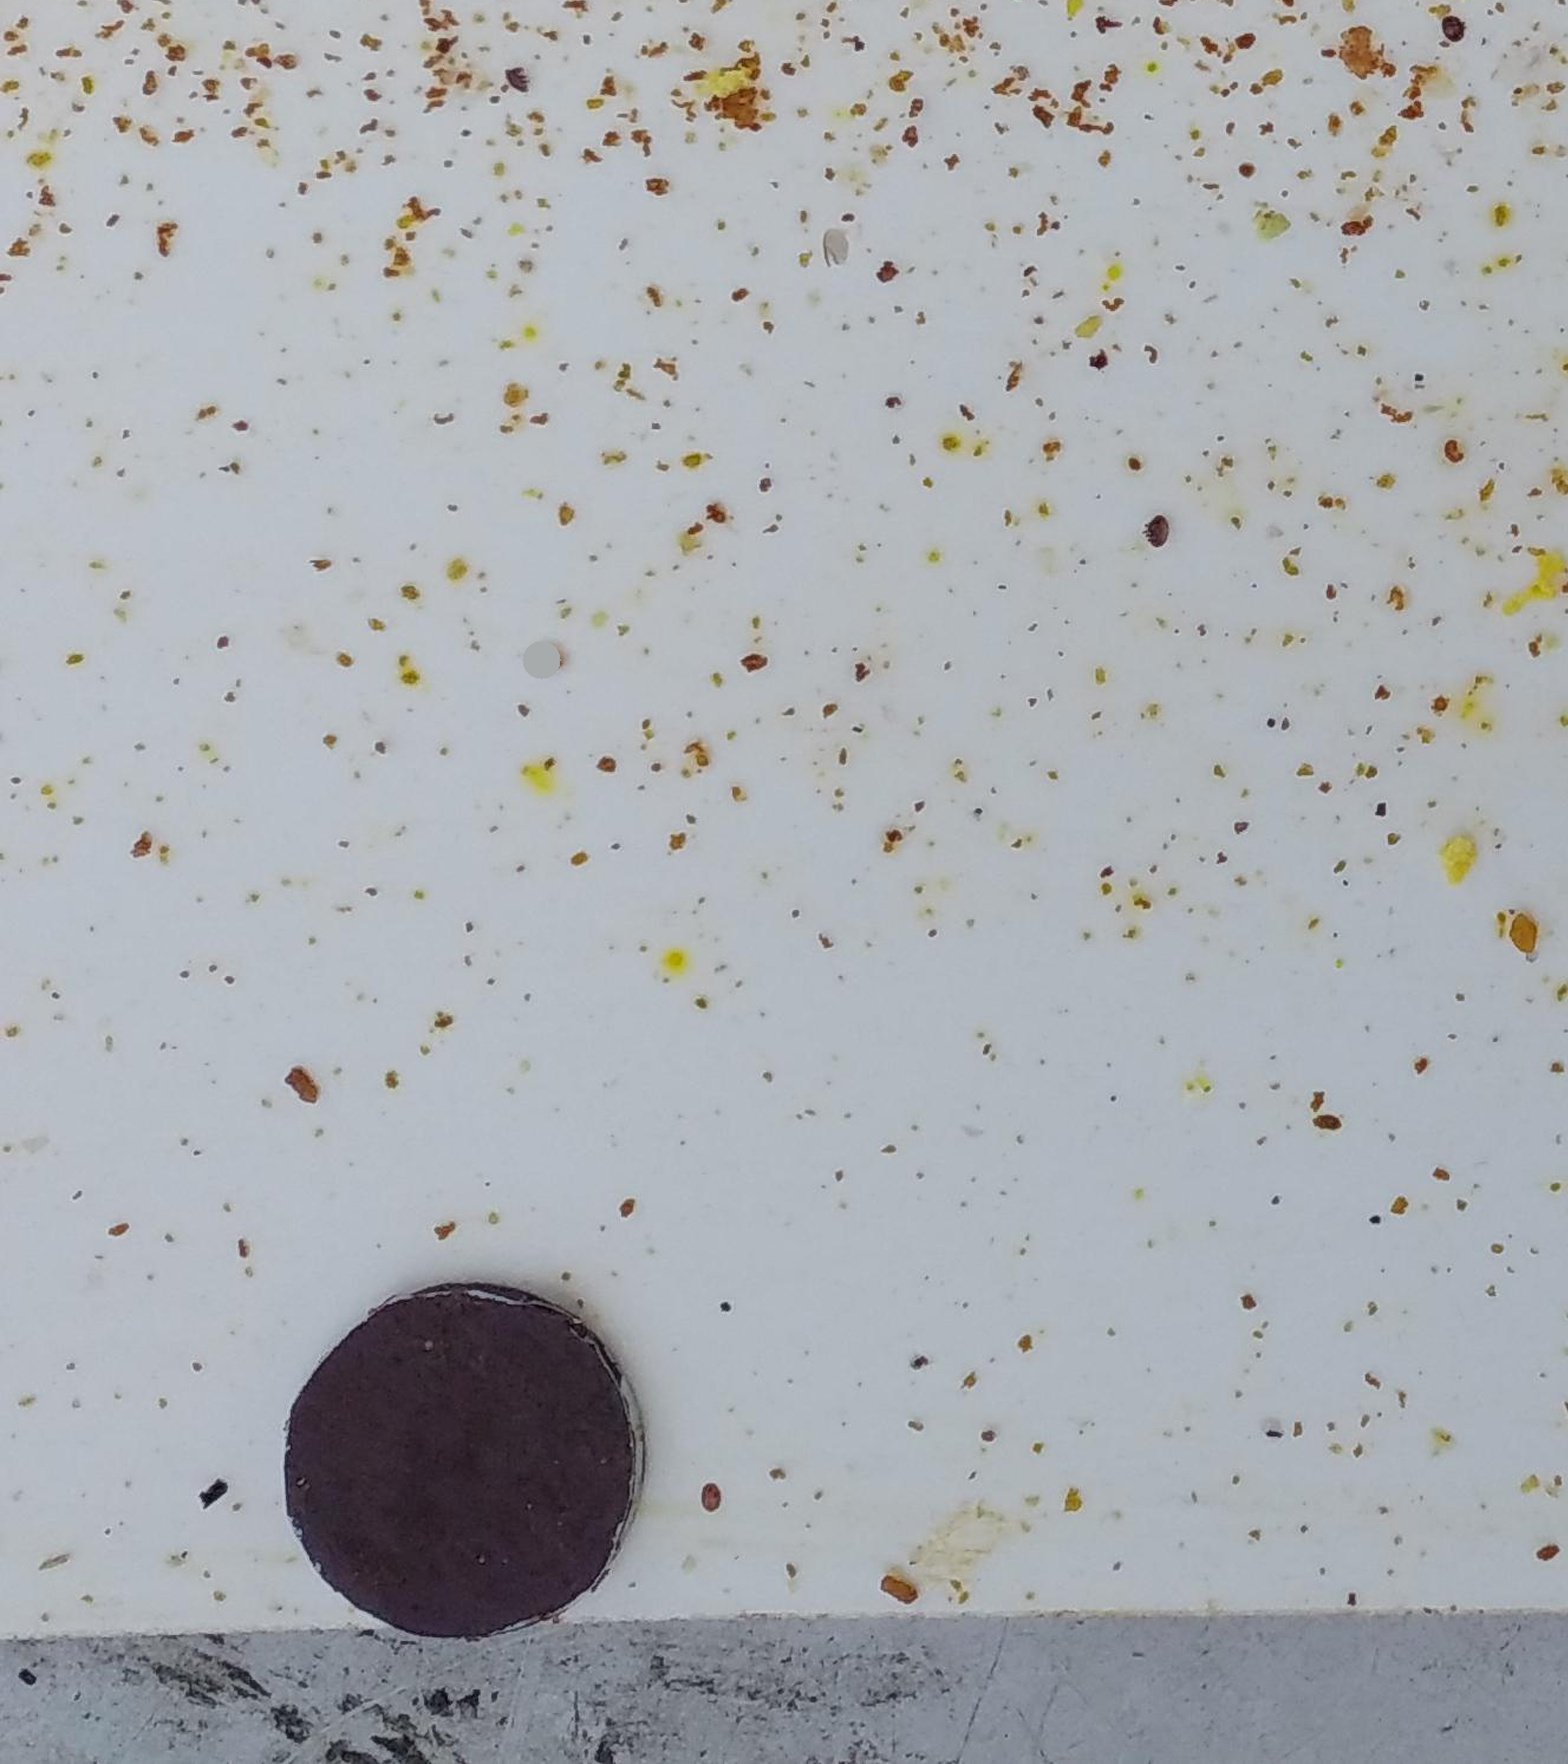Varroa: (502, 59, 534, 91), (695, 1480, 725, 1508), (1147, 519, 1174, 545), (1445, 17, 1467, 35)
